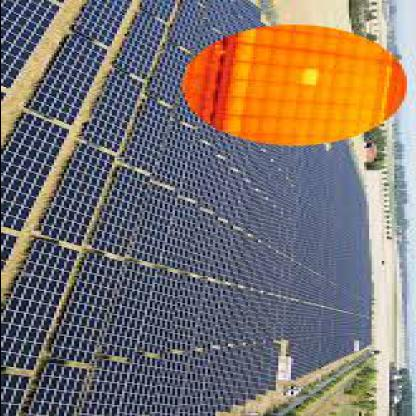Defects: (298, 66, 320, 86)
